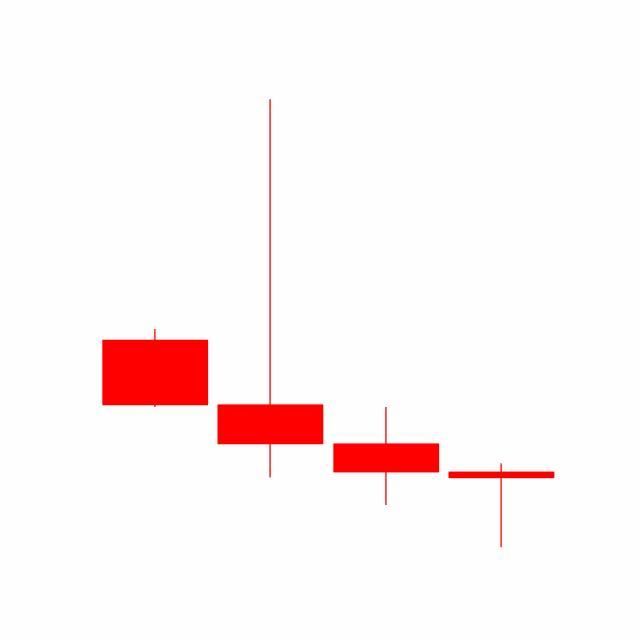Spinning Top: (329, 407, 445, 508)
